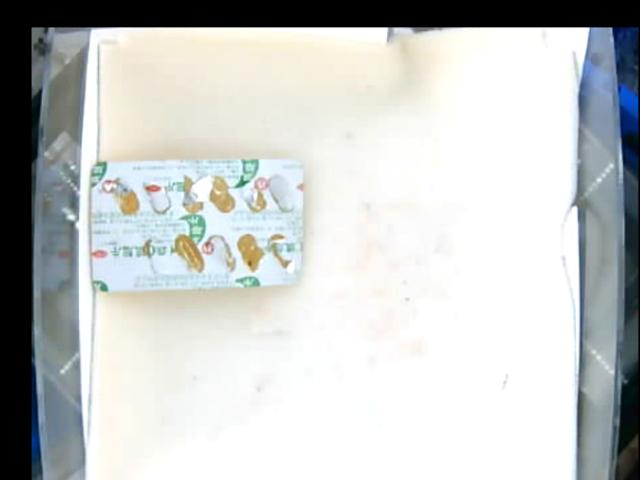Medicine: (86, 158, 305, 294)
